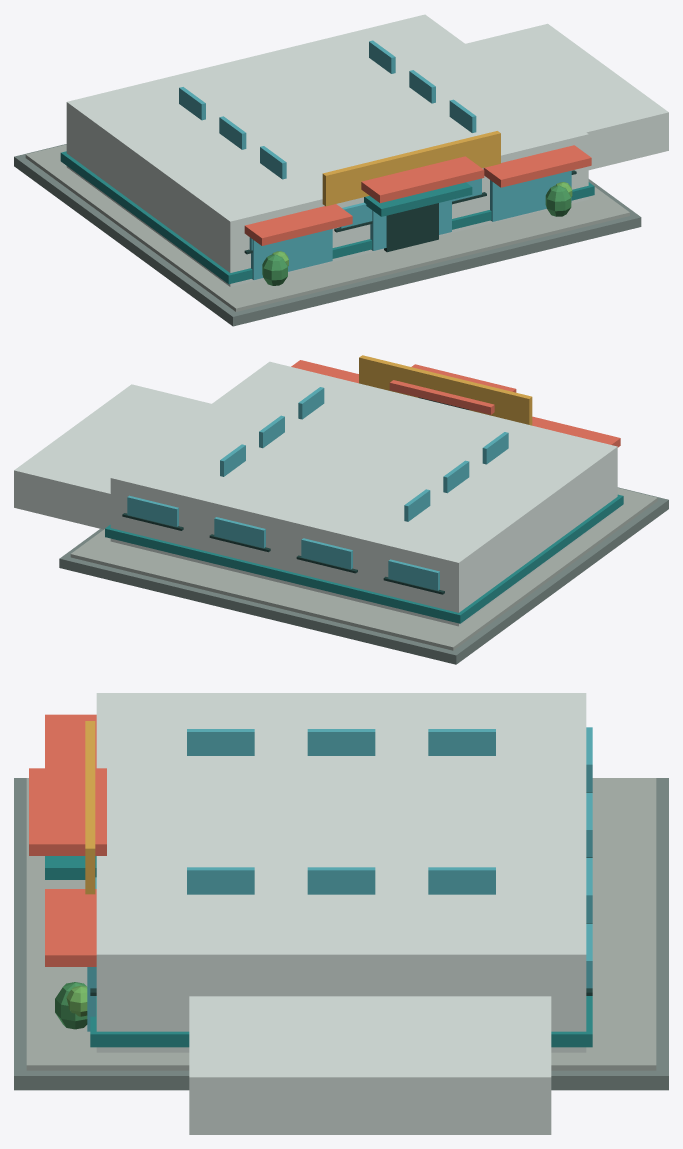
The model's file is supermarket_lv2.glb.
3 renders of one model, top to bottom at view 1: azimuth 30°, elevation 25°; view 2: azimuth 150°, elevation 25°; view 3: azimuth 270°, elevation 25°, orthographic. The views are drawn at different scales.
Visible parts, largest first — view 1: white, concrete, pavement, glass, coral, teal, gold, dark, green; view 2: white, concrete, pavement, glass, teal, gold, coral, dark; view 3: white, concrete, pavement, glass, coral, teal, gold, green.
Part boxes in pixels (left/top/right/bottom): white: left=66, top=14, right=668, bottom=286; concrete: left=25, top=144, right=629, bottom=311; pavement: left=14, top=144, right=641, bottom=326; glass: left=179, top=40, right=571, bottom=279; coral: left=244, top=145, right=591, bottom=245; teal: left=60, top=151, right=594, bottom=284; gold: left=322, top=131, right=500, bottom=206; dark: left=244, top=170, right=576, bottom=254; green: left=262, top=185, right=571, bottom=285; white: left=14, top=361, right=617, bottom=626; concrete: left=70, top=488, right=657, bottom=650; pavement: left=59, top=487, right=668, bottom=664; glass: left=127, top=387, right=508, bottom=590; teal: left=105, top=494, right=623, bottom=623; gold: left=359, top=355, right=532, bottom=425; coral: left=291, top=360, right=620, bottom=447; dark: left=122, top=397, right=468, bottom=594; white: left=96, top=693, right=586, bottom=1134; concrete: left=26, top=778, right=656, bottom=1070; pavement: left=14, top=778, right=668, bottom=1090; glass: left=87, top=727, right=592, bottom=1031; coral: left=29, top=714, right=106, bottom=966; teal: left=45, top=856, right=592, bottom=1047; gold: left=85, top=721, right=95, bottom=894; green: left=55, top=982, right=87, bottom=1029.
Size of the model in its own units: 11.87 by 2.4 by 9.1.
